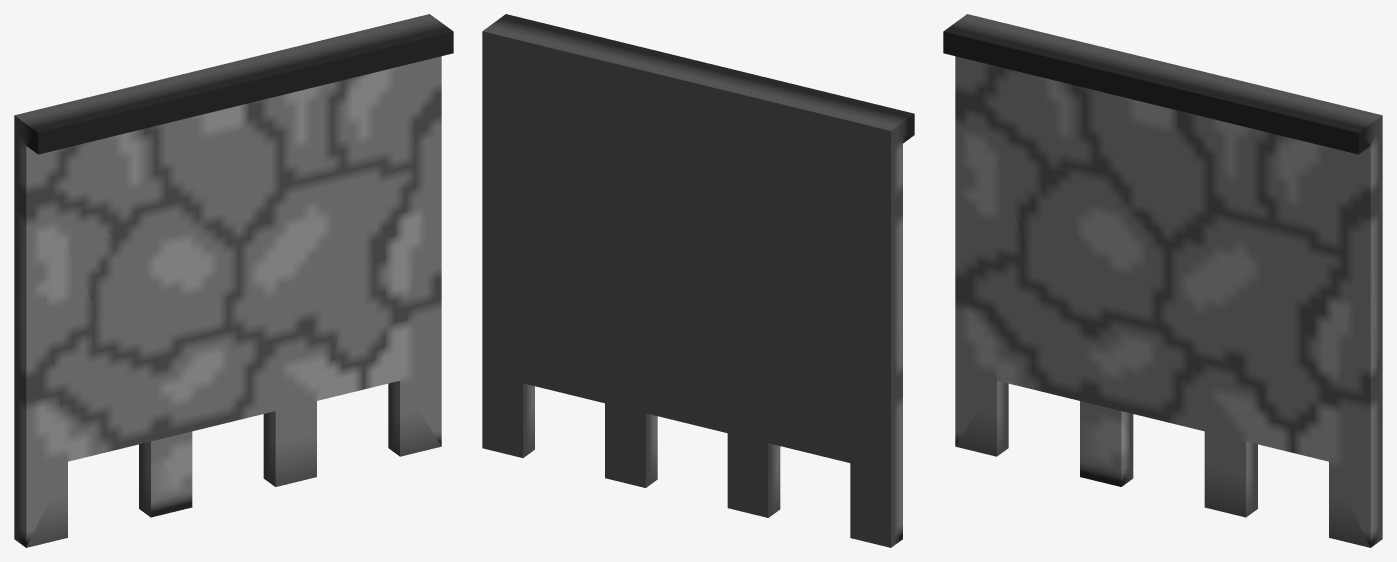
The model's file is WallDefaultTrain_R.fbx.
The picture shows the model from 3 angles, left to right: view 1: azimuth 30°, elevation 25°; view 2: azimuth 150°, elevation 25°; view 3: azimuth 330°, elevation 25°; orthographic projection.
Parts seen in each view (by area): view 1: walldefaulttrain_r.walldefaulttrain_r-0; view 2: walldefaulttrain_r.walldefaulttrain_r-0; view 3: walldefaulttrain_r.walldefaulttrain_r-0.
Part boxes in pixels (box(x1,y1,x2,y2)): walldefaulttrain_r.walldefaulttrain_r-0: box(14, 14, 453, 547); walldefaulttrain_r.walldefaulttrain_r-0: box(482, 14, 914, 547); walldefaulttrain_r.walldefaulttrain_r-0: box(943, 14, 1382, 547).
Size of the model in its own units: 400 by 390 by 40.
